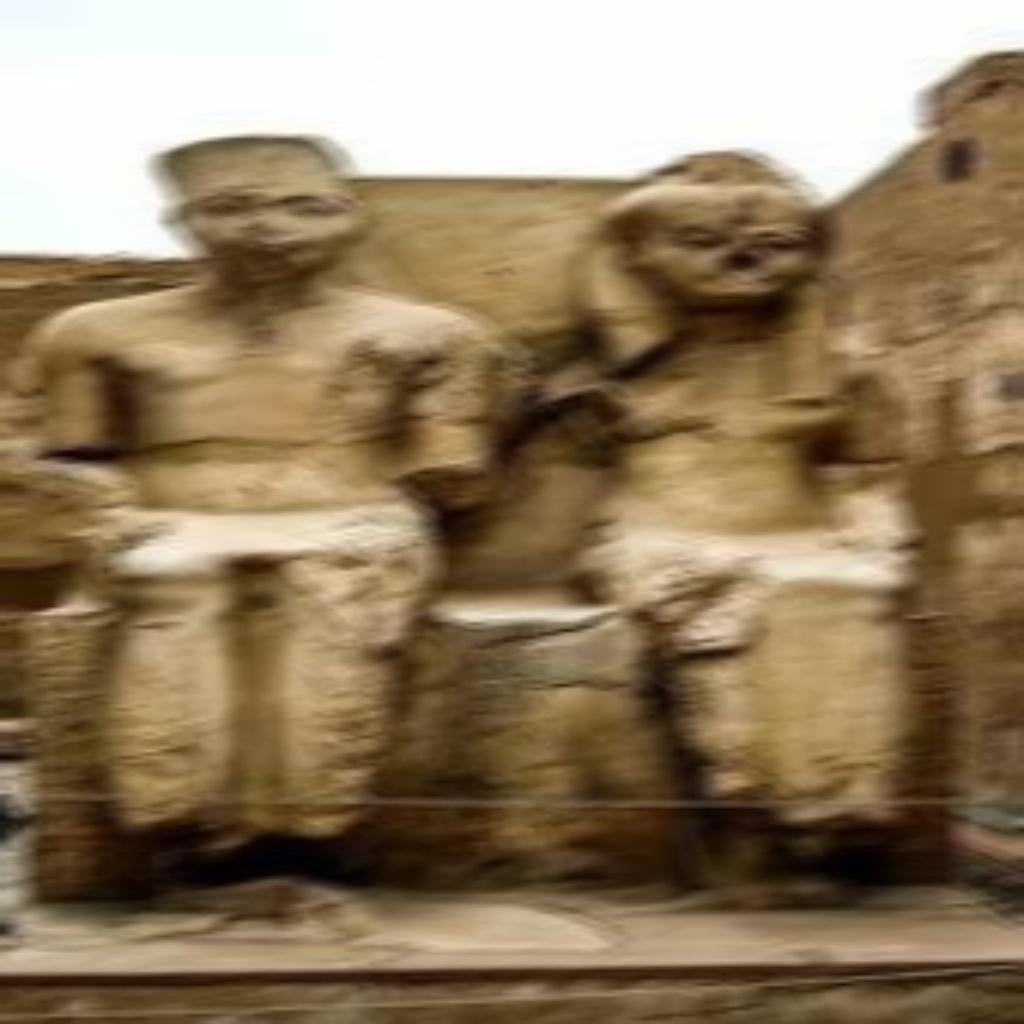Statue of Ankhesenamun: (540, 141, 933, 829)
Statue of Tutankhamun: (37, 127, 504, 838)
